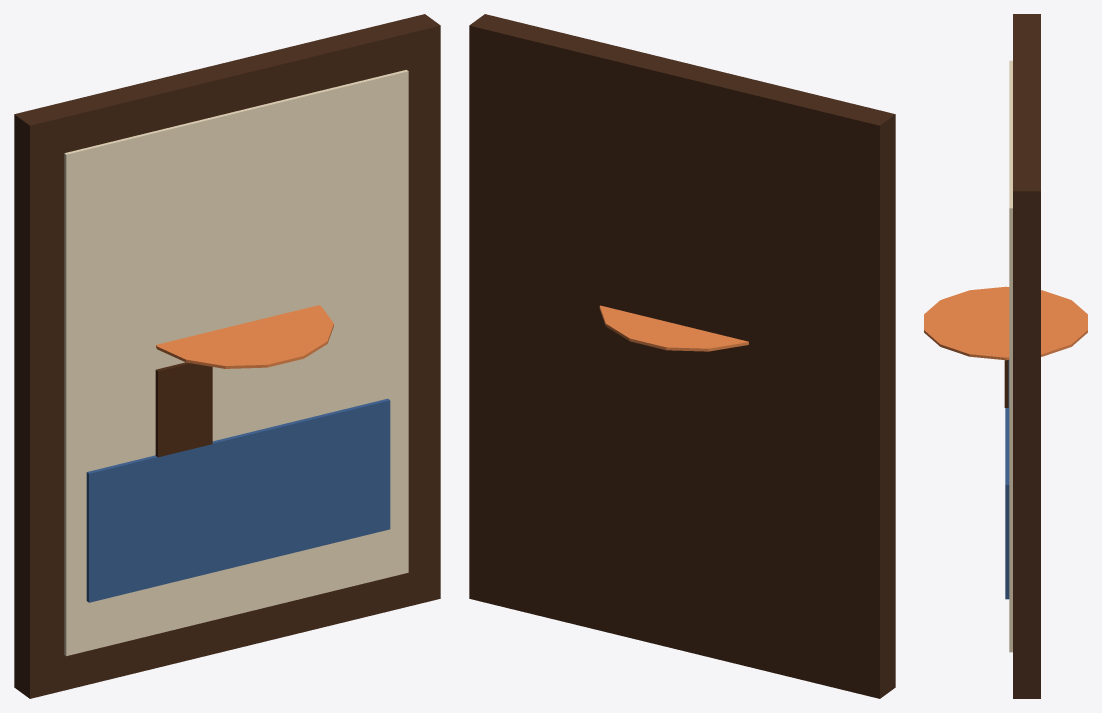
File: wall_art.obj
The picture shows the model from 3 angles, left to right: view 1: azimuth 30°, elevation 25°; view 2: azimuth 150°, elevation 25°; view 3: azimuth 270°, elevation 25°; orthographic projection. The views are drawn at different scales.
Parts seen in each view (by area): view 1: wall_art; view 2: wall_art; view 3: wall_art.
Part boxes in pixels (<box>): wall_art: <box>14,14,440,698</box>; wall_art: <box>469,14,895,698</box>; wall_art: <box>924,14,1087,698</box>.
Bounding box in the file's own units: 0.6 × 0.8 × 0.234.
